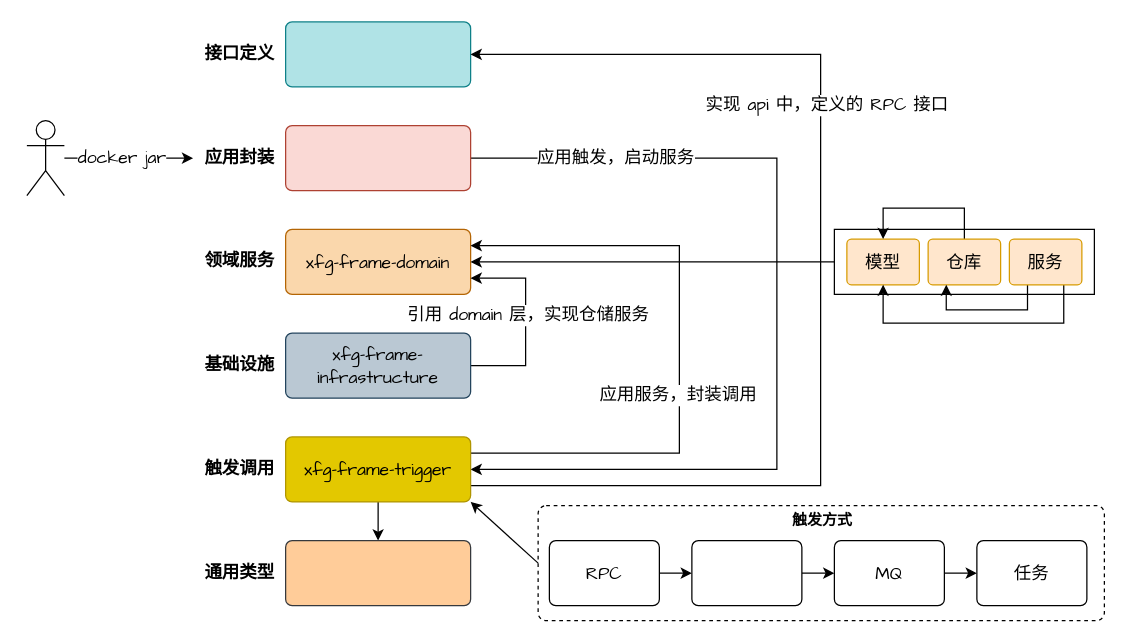
This 1126x643 diagram has some shape labels left out. The box of each missing label's shape, as (x1, y1, x2, y2) in pixels:
Actor: (26, 119, 64, 196)
HTTP: (691, 539, 802, 606)
xfg-frame-api: (284, 21, 471, 87)
xfg-frame-app: (284, 124, 471, 191)
xfg-frame-types: (284, 539, 471, 606)
